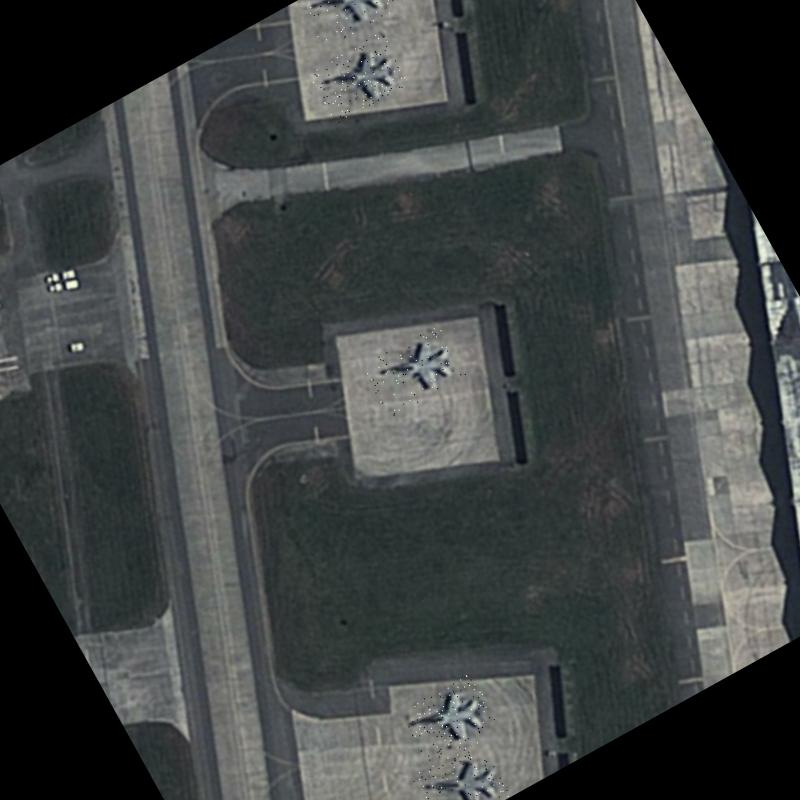A16: (360, 322, 466, 418), (307, 30, 410, 124), (399, 671, 500, 764), (409, 738, 511, 800), (296, 0, 397, 49)
